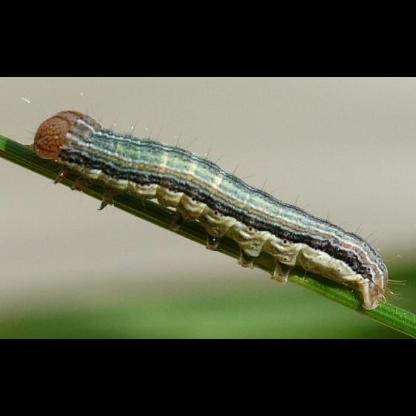oruga: (14, 163, 406, 273)
